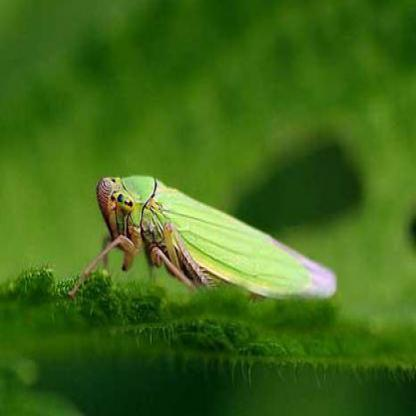Green-Leafhopper: (67, 173, 340, 308)
